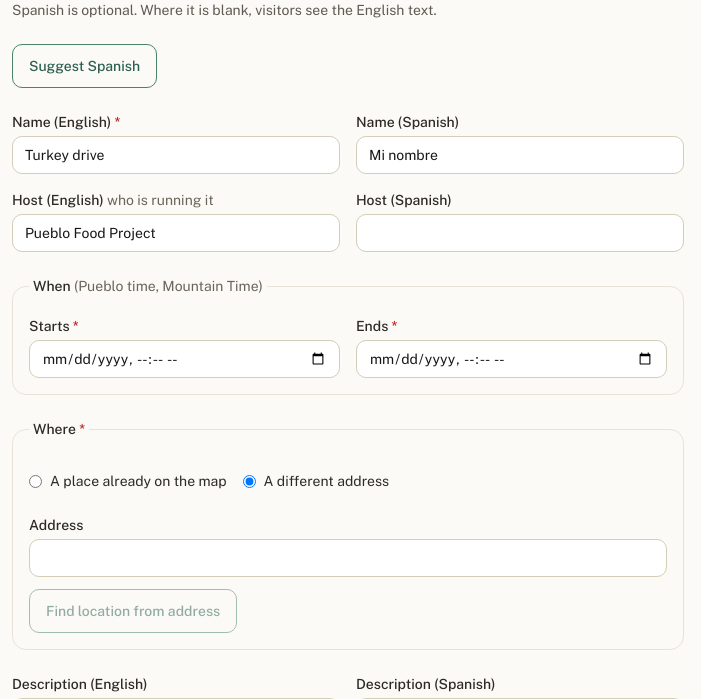
Suggest Spanish › fills only empty Spanish boxes and sends only English that has an empty twin
What coordinates should you click on to do the following:
click the button "Suggest Spanish"
I would click on:
 (85, 66)
Its box is top-left (12, 44), bottom-right (157, 88).
(page scrolled)
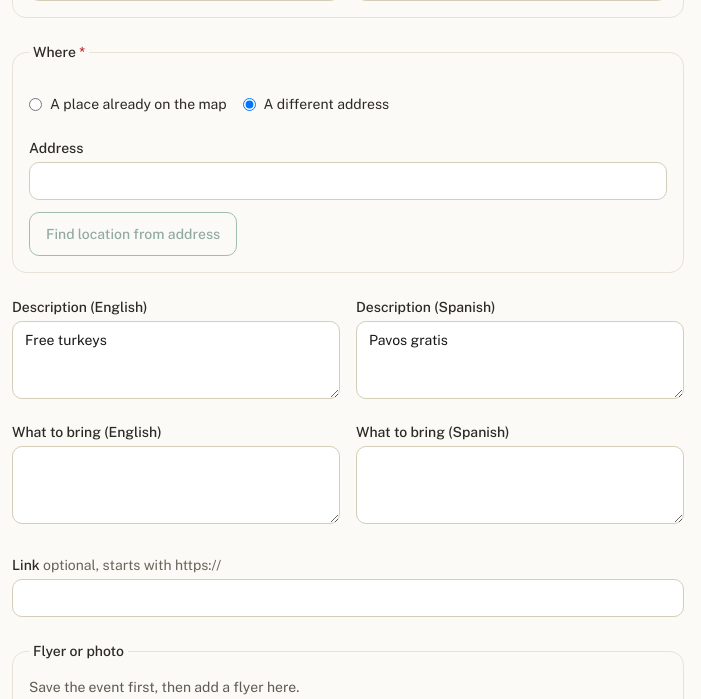
expect the text box labelled "Description (Spanish)" holds "Pavos gratis": met, box top-left (356, 321), bottom-right (684, 399)
